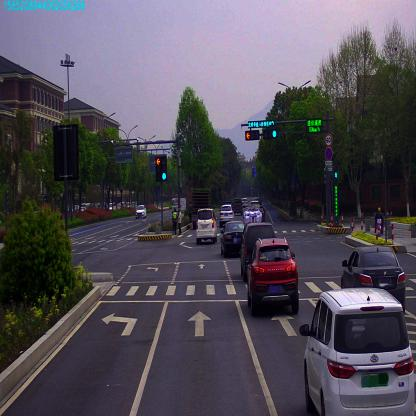traffic-light: (247, 121, 276, 128), (244, 131, 260, 142), (263, 130, 277, 139)
